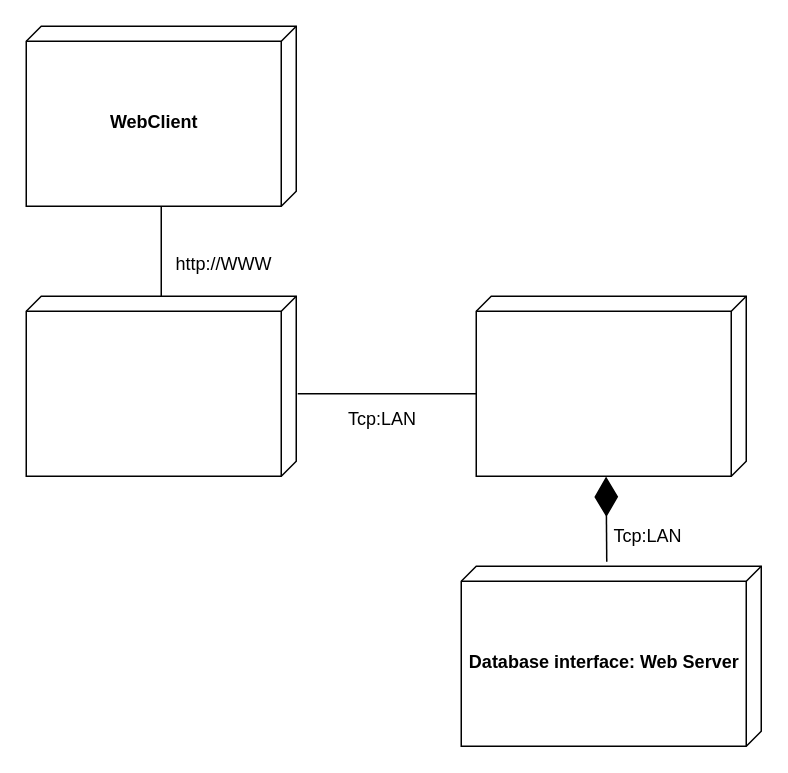
Some shapes in this 788 by 773 pixel diagram are drawn without their labels. The shapes that lost their labels are listed below. From the top down, each one's centre as x and y in pixels, then its label:
point 160,385: WebServer {location = Server room} OS = Ubuntu 12.0 Web Server = Apache
point 610,385: Application Server Python 3.7.1 Django 2.0
